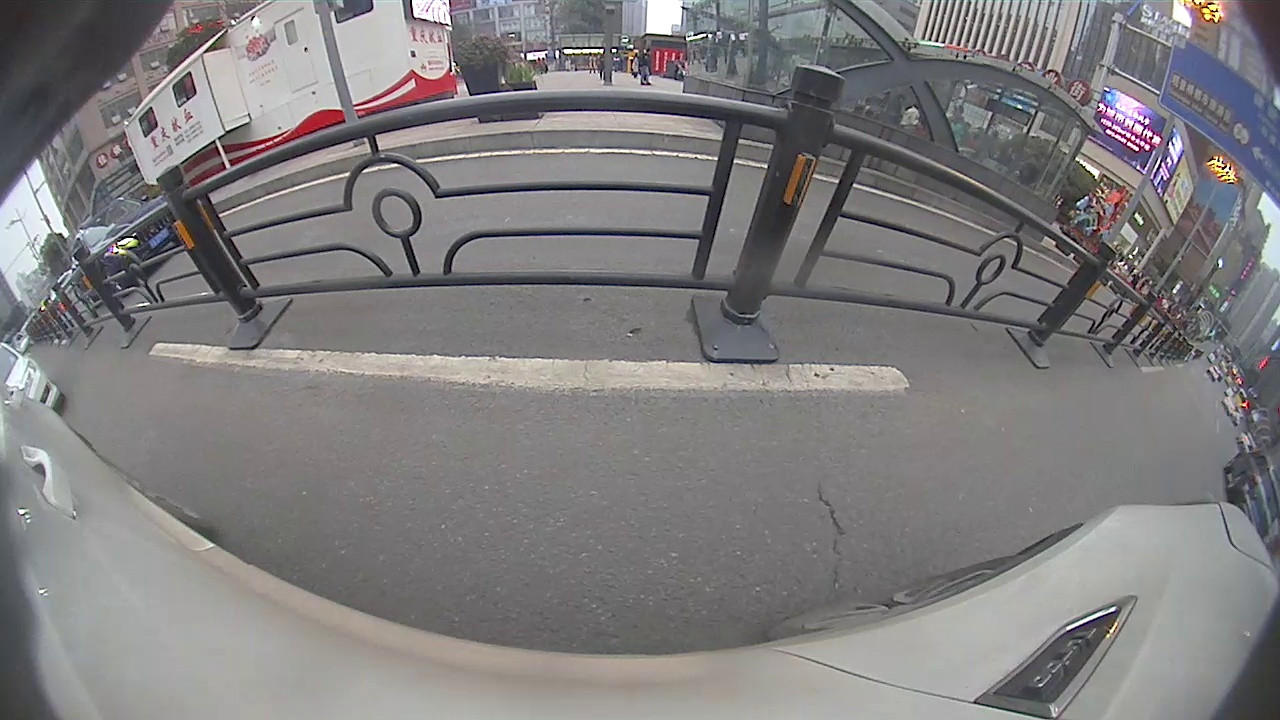car: (71, 195, 181, 303)
